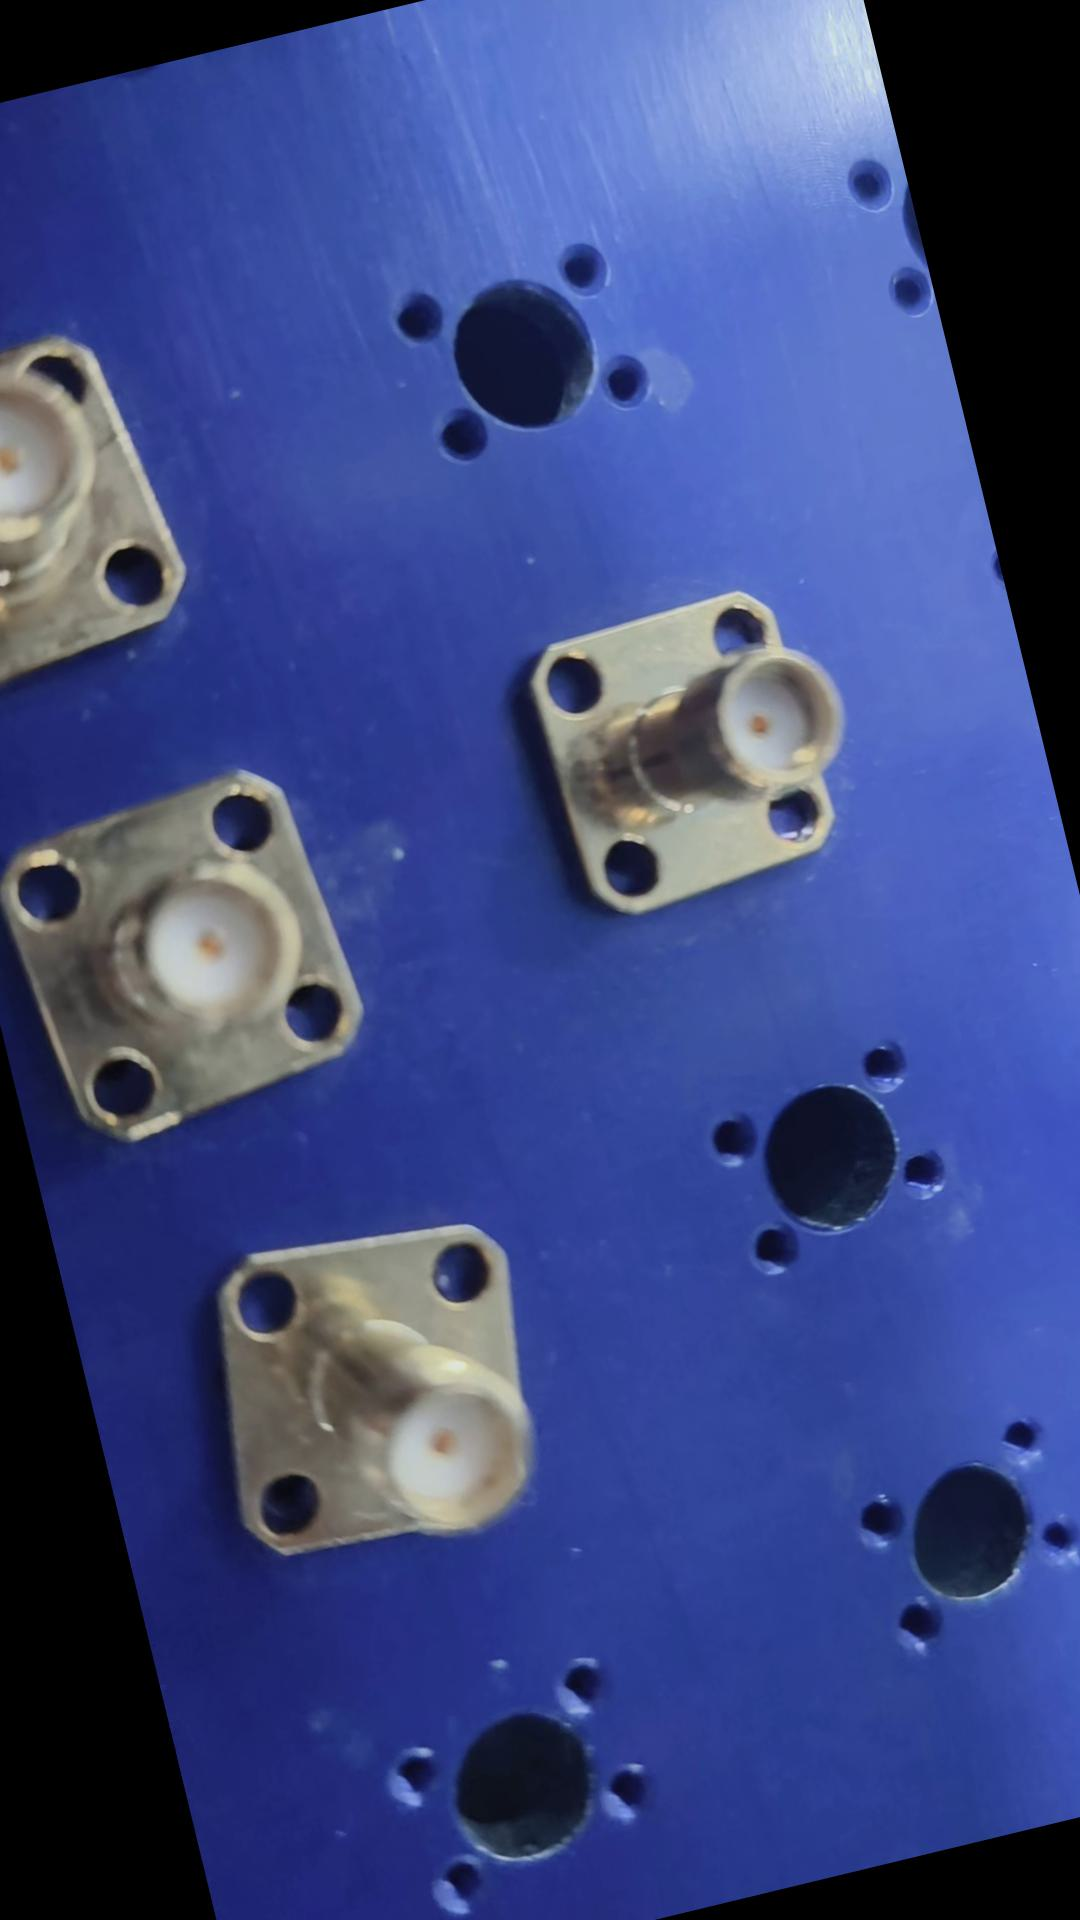SMA: (175, 1197, 591, 1575), (0, 760, 385, 1158), (498, 558, 877, 938), (0, 310, 219, 721)
